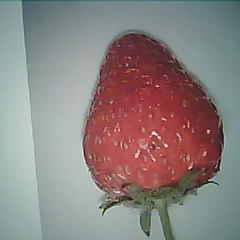straw-ripe: (83, 31, 224, 197)
